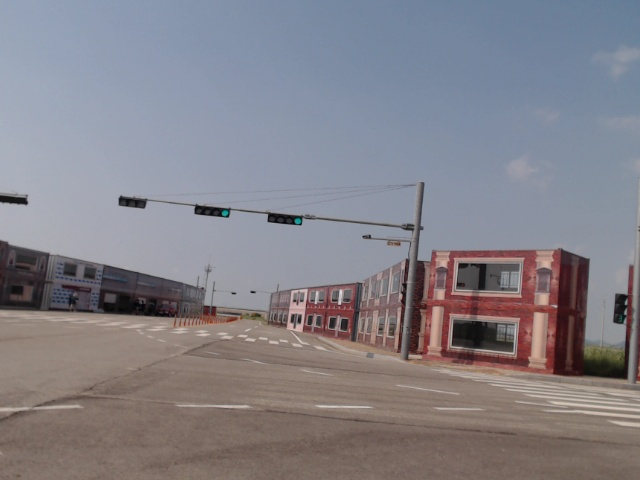straight_green_4: (268, 212, 303, 226), (196, 205, 229, 217)
